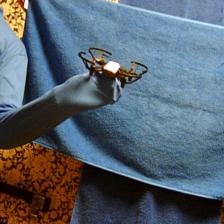drone: (78, 46, 146, 88)
